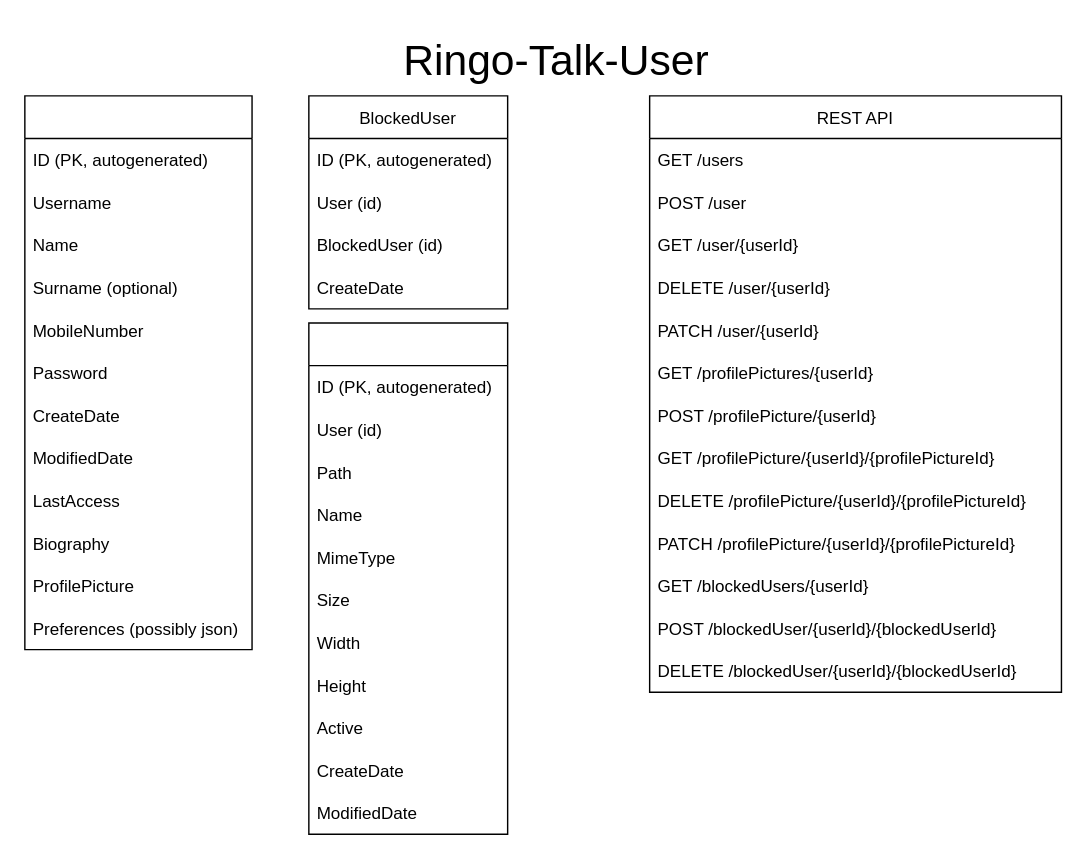
The diagram is 1086 pixels wide and 859 high, and some of its shapes have lost their labels. Here are the shapes that lost their labels. From the top down, the box of each, then its label:
(23, 94, 252, 650): UserDetails
(307, 322, 508, 834): ProfilePictures
